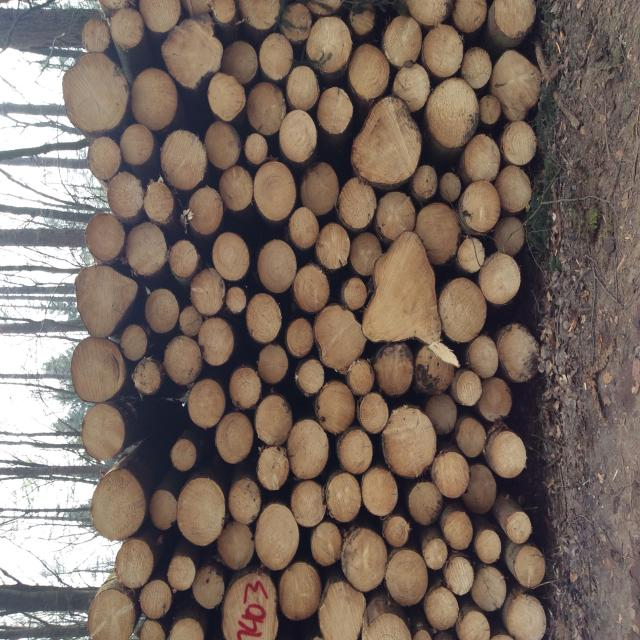wood-log: (361, 231, 441, 345), (351, 95, 421, 184), (62, 52, 129, 136), (161, 10, 222, 90), (75, 264, 139, 338), (381, 405, 436, 479), (91, 469, 146, 541), (222, 571, 278, 639), (71, 336, 126, 403), (425, 79, 479, 147), (490, 50, 541, 122), (314, 305, 366, 373), (178, 477, 225, 546), (438, 278, 486, 343), (341, 527, 388, 592), (255, 504, 299, 571), (415, 202, 461, 266), (160, 131, 208, 192), (131, 69, 178, 131), (319, 581, 366, 639), (286, 418, 329, 480), (278, 561, 321, 621), (306, 17, 351, 74), (254, 161, 296, 221), (81, 403, 125, 460), (385, 549, 428, 606), (88, 589, 136, 639), (499, 323, 539, 383), (422, 23, 464, 79), (372, 343, 414, 397), (349, 44, 390, 99), (126, 223, 168, 276), (478, 253, 520, 306), (381, 15, 422, 69), (246, 82, 286, 137), (315, 380, 355, 435), (300, 162, 339, 216), (258, 239, 296, 293), (115, 537, 154, 589), (215, 412, 254, 464), (279, 110, 318, 162), (462, 181, 500, 234), (85, 213, 125, 263), (415, 346, 455, 395), (255, 395, 292, 447), (361, 465, 398, 517), (376, 192, 415, 241), (188, 378, 226, 428), (208, 72, 246, 122), (292, 263, 330, 313), (164, 336, 202, 385), (218, 520, 254, 571), (205, 120, 241, 171), (340, 177, 376, 228), (212, 233, 250, 281), (392, 64, 430, 112), (246, 293, 281, 345), (506, 594, 546, 639), (325, 472, 361, 522), (199, 318, 235, 367), (490, 430, 526, 479), (461, 464, 496, 514), (434, 452, 470, 499), (495, 166, 531, 213), (190, 268, 225, 316), (189, 186, 224, 234), (315, 223, 350, 271), (465, 134, 500, 182), (318, 87, 352, 136), (221, 40, 258, 85), (108, 172, 144, 218), (291, 480, 326, 527), (259, 33, 294, 79), (471, 566, 506, 611), (502, 120, 536, 166), (495, 0, 536, 38), (219, 166, 252, 213), (229, 477, 261, 525), (408, 480, 442, 525), (478, 377, 512, 422), (145, 290, 180, 333), (88, 137, 122, 181), (425, 587, 459, 631), (286, 65, 319, 110), (340, 428, 372, 474), (120, 124, 155, 166), (110, 8, 145, 50), (229, 365, 261, 410), (311, 520, 342, 566), (192, 566, 225, 609), (256, 447, 289, 490), (514, 544, 545, 589), (139, 0, 181, 33), (425, 393, 458, 435), (361, 613, 412, 640), (468, 335, 499, 378), (350, 233, 381, 276), (461, 47, 492, 89), (144, 181, 174, 224), (289, 208, 319, 251), (406, 0, 452, 28), (140, 579, 172, 619), (258, 345, 289, 385), (494, 216, 525, 256), (442, 510, 472, 551), (239, 0, 280, 30), (359, 393, 389, 433), (149, 490, 178, 531), (280, 3, 312, 40), (169, 239, 199, 278), (456, 418, 486, 457), (285, 318, 314, 358), (445, 557, 474, 596), (452, 0, 486, 33), (346, 358, 375, 395), (132, 358, 160, 395), (120, 325, 148, 361), (81, 18, 110, 52), (168, 556, 195, 591), (458, 238, 485, 273), (299, 358, 324, 395), (458, 611, 491, 639), (475, 529, 501, 564), (456, 372, 482, 407), (411, 166, 438, 199), (170, 438, 196, 472), (342, 278, 368, 310), (506, 512, 531, 544), (422, 539, 448, 569), (385, 517, 410, 547), (169, 618, 204, 639), (349, 10, 375, 37), (179, 306, 202, 336), (245, 134, 268, 164), (479, 95, 501, 126), (439, 172, 461, 202), (226, 286, 246, 315), (211, 0, 236, 23), (140, 619, 166, 640), (181, 0, 211, 18), (306, 0, 341, 15), (99, 0, 134, 12), (411, 629, 431, 640), (491, 634, 512, 640)
